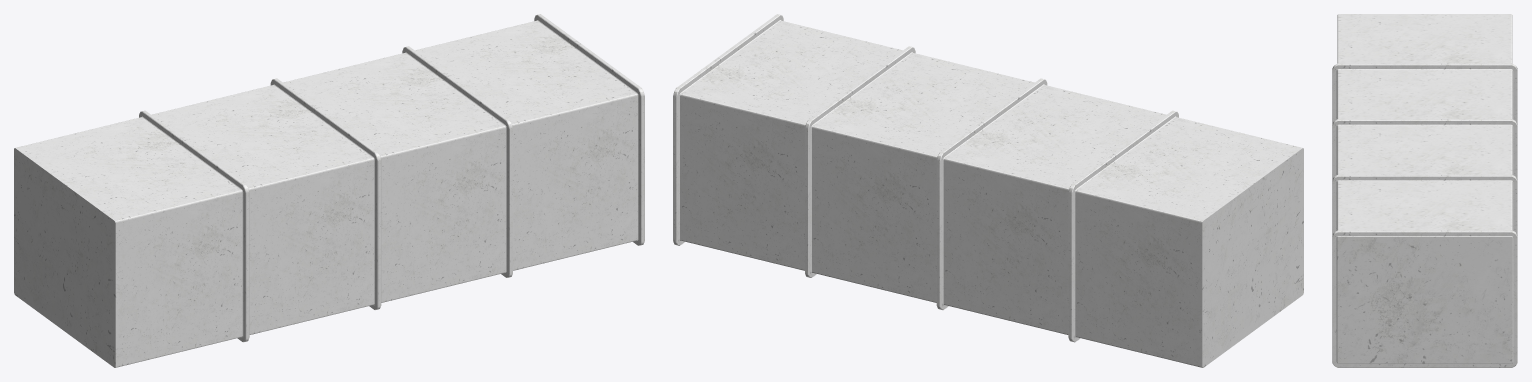
Rendered from SM_AC_Unit_100u.glb.
3 views of the same model, side by side, from view 1: azimuth 30°, elevation 25°; view 2: azimuth 150°, elevation 25°; view 3: azimuth 270°, elevation 25° (orthographic). The views are drawn at different scales.
Parts seen in each view (by area): view 1: SM_AC_Unit_100u; view 2: SM_AC_Unit_100u; view 3: SM_AC_Unit_100u.
Boxes of the visible parts, left/top/right/bottom form: SM_AC_Unit_100u: left=14, top=14, right=644, bottom=367; SM_AC_Unit_100u: left=673, top=14, right=1303, bottom=367; SM_AC_Unit_100u: left=1332, top=14, right=1517, bottom=367.
Bounding box in the file's own units: 1.5 × 0.4289 × 0.5289.
1 material, 1 textured.
